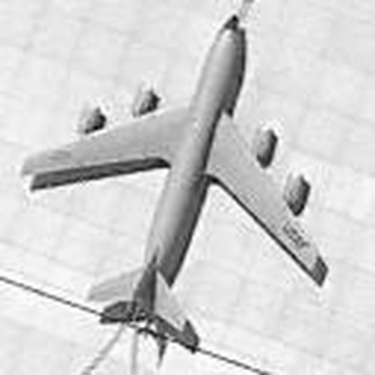airplane: (16, 7, 336, 353)
